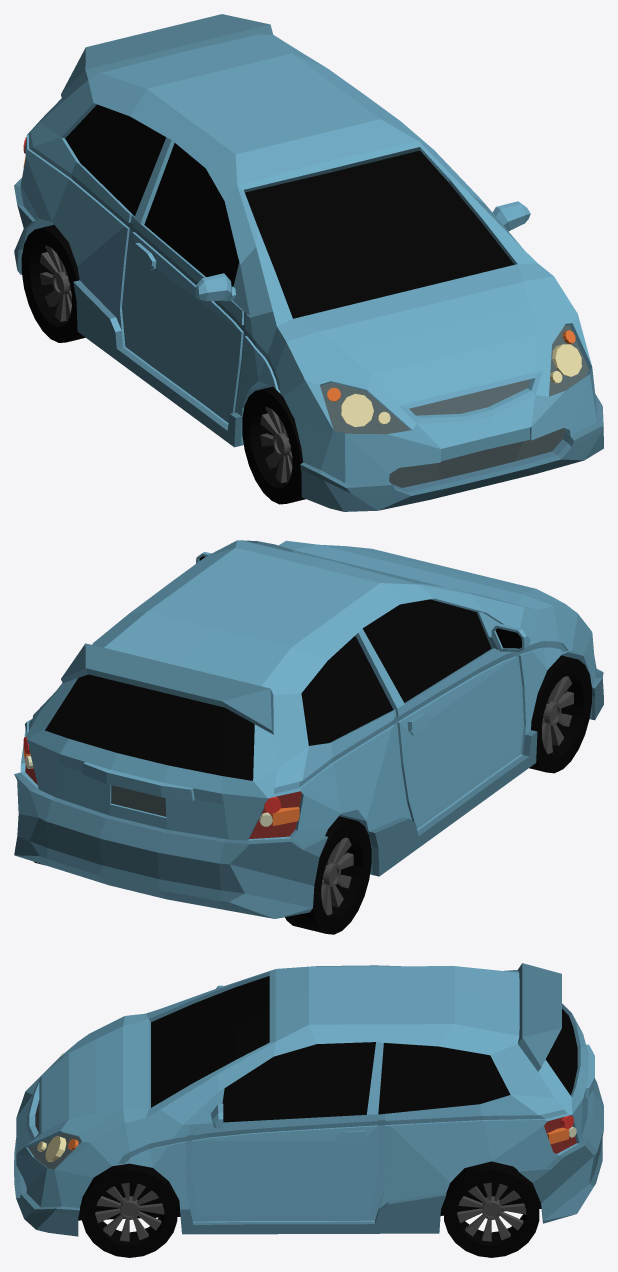
Rendered from HatchBack.glb.
The picture shows the model from 3 angles, top to bottom: view 1: azimuth 30°, elevation 25°; view 2: azimuth 150°, elevation 25°; view 3: azimuth 270°, elevation 25°; orthographic projection. The views are drawn at different scales.
Parts seen in each view (by area): view 1: Body, FrontRightWheel, RearRightWheel, RightHeadLight, LeftHeadLight; view 2: Body, RearRightWheel, FrontRightWheel; view 3: Body, RearLeftWheel, FrontLeftWheel, LeftHeadLight.
Part boxes in pixels (bbox=[...]): Body: bbox=[14, 14, 603, 511]; FrontRightWheel: bbox=[242, 386, 305, 504]; RearRightWheel: bbox=[21, 224, 85, 342]; RightHeadLight: bbox=[341, 393, 390, 427]; LeftHeadLight: bbox=[550, 344, 581, 383]; Body: bbox=[14, 540, 603, 918]; RearRightWheel: bbox=[285, 816, 371, 934]; FrontRightWheel: bbox=[529, 655, 591, 773]; Body: bbox=[14, 963, 603, 1236]; RearLeftWheel: bbox=[444, 1161, 539, 1257]; FrontLeftWheel: bbox=[82, 1163, 177, 1257]; LeftHeadLight: bbox=[37, 1135, 66, 1161].
Size of the model in its own units: 2.59 by 1.86 by 4.86.
